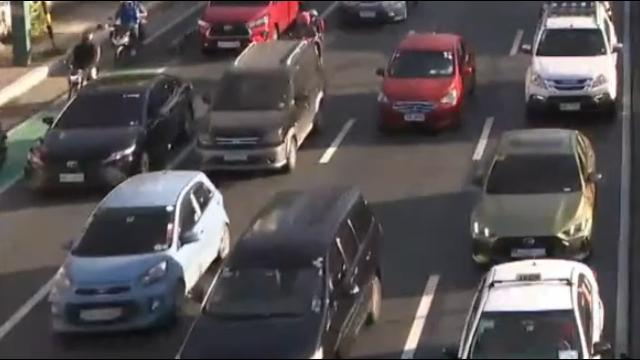car: (170, 183, 388, 360), (42, 169, 232, 338), (27, 71, 194, 194), (457, 123, 603, 262), (191, 39, 326, 177), (442, 258, 612, 360), (519, 0, 626, 118), (369, 31, 476, 137), (192, 0, 299, 58), (337, 0, 420, 25)
motorcycle: (58, 29, 102, 101), (109, 0, 151, 66), (280, 5, 327, 40)
